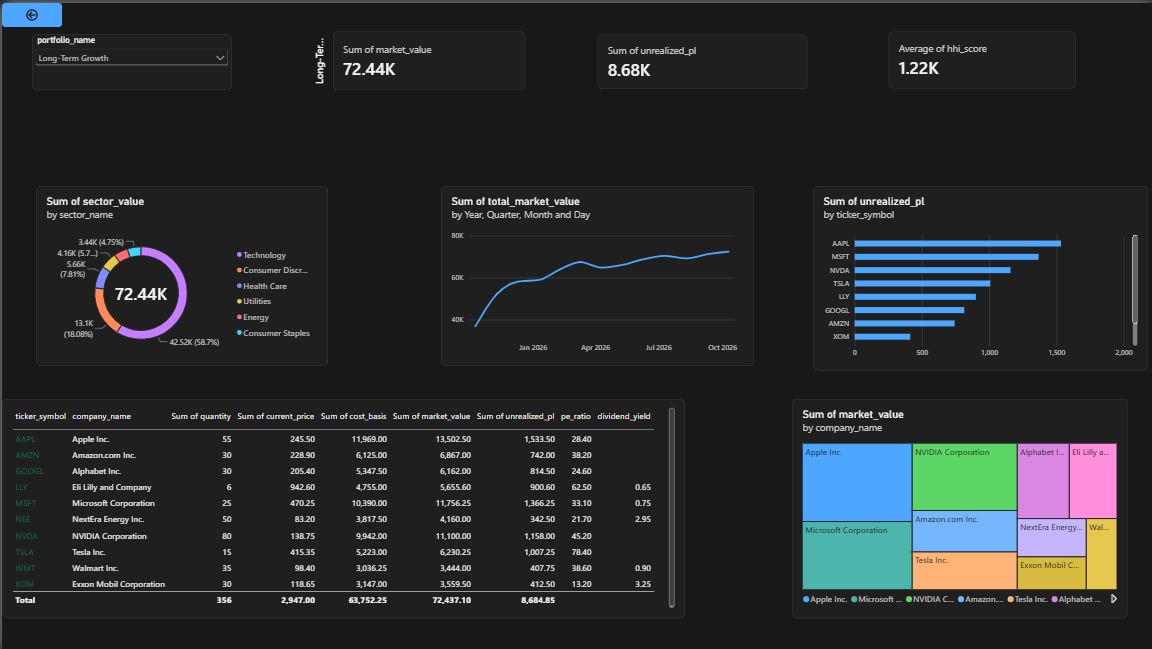

The dashboard page shown, as its layout file describes it:
{"tool":"powerbi","page":{"name":"Page 1","canvas":[1920,1080],"ordinal":0},"visuals":[{"type":"cardVisual","fields":{"Data":["Sum(pbi_positions.market_value)"],"Rows":["pbi_positions.portfolio_name"]},"box":[516.7,48.3,355,98.3],"z":0},{"type":"cardVisual","fields":{"Data":["Sum(pbi_positions.unrealized_pl)"]},"box":[991.7,51.7,350,91.7],"z":1000},{"type":"cardVisual","fields":{"Data":["Avg(pbi_hhi.hhi_score)"]},"box":[1476.7,48.3,312.5,95],"z":2000},{"type":"slicer","fields":{"Values":["Portfolios.portfolio_name"]},"box":[50,51.7,332.5,92.5],"z":3000},{"type":"donutChart","fields":{"Category":["pbi_sectors.sector_name"],"Y":["Sum(pbi_sectors.sector_value)"]},"box":[57.5,305,485,300],"z":4000},{"type":"tableEx","fields":{"Values":["pbi_positions.ticker_symbol","pbi_positions.company_name","Sum(pbi_positions.quantity)","Sum(pbi_positions.current_price)","Sum(pbi_positions.cost_basis)","Sum(pbi_positions.market_value)","Sum(pbi_positions.unrealized_pl)","pbi_fundamentals.pe_ratio","pbi_fundamentals.dividend_yield"]},"box":[0,660,1138.1,365],"z":5000},{"type":"actionButton","box":[0,0,100,40],"z":6000},{"type":"clusteredBarChart","fields":{"Category":["pbi_positions.ticker_symbol"],"Y":["Sum(pbi_positions.unrealized_pl)"]},"box":[1352.5,305,557.5,307.5],"z":7000},{"type":"treemap","fields":{"Group":["pbi_positions.company_name"],"Values":["Sum(pbi_positions.market_value)"]},"box":[1317,660.9,558.3,365],"z":9000},{"type":"lineChart","fields":{"Category":["pbi_performance.snapshot_date.Variation.Date Hierarchy.Year","pbi_performance.snapshot_date.Variation.Date Hierarchy.Quarter","pbi_performance.snapshot_date.Variation.Date Hierarchy.Month","pbi_performance.snapshot_date.Variation.Date Hierarchy.Day"],"Y":["Sum(pbi_performance.total_market_value)"]},"box":[732.5,305,520,300],"z":10000}]}

Visuals, with their boxes on the page's 1920x1080 design canvas (x1, y1, x2, y2). These are canvas units, not pixel positions in the 1152x649 screenshot, which may show the page scaled, cropped or inside an application window:
cardVisual - Sum(pbi_positions.market_value) x pbi_positions.portfolio_name: l=517, t=48, r=872, b=147
cardVisual - Sum(pbi_positions.unrealized_pl): l=992, t=52, r=1342, b=143
cardVisual - Avg(pbi_hhi.hhi_score): l=1477, t=48, r=1789, b=143
slicer - Portfolios.portfolio_name: l=50, t=52, r=382, b=144
donutChart - pbi_sectors.sector_name x Sum(pbi_sectors.sector_value): l=58, t=305, r=542, b=605
tableEx - pbi_positions.ticker_symbol x pbi_positions.company_name: l=0, t=660, r=1138, b=1025
actionButton: l=0, t=0, r=100, b=40
clusteredBarChart - pbi_positions.ticker_symbol x Sum(pbi_positions.unrealized_pl): l=1352, t=305, r=1910, b=612
treemap - pbi_positions.company_name x Sum(pbi_positions.market_value): l=1317, t=661, r=1875, b=1026
lineChart - pbi_performance.snapshot_date.Variation.Date Hierarchy.Year x pbi_performance.snapshot_date.Variation.Date Hierarchy.Quarter: l=732, t=305, r=1252, b=605
